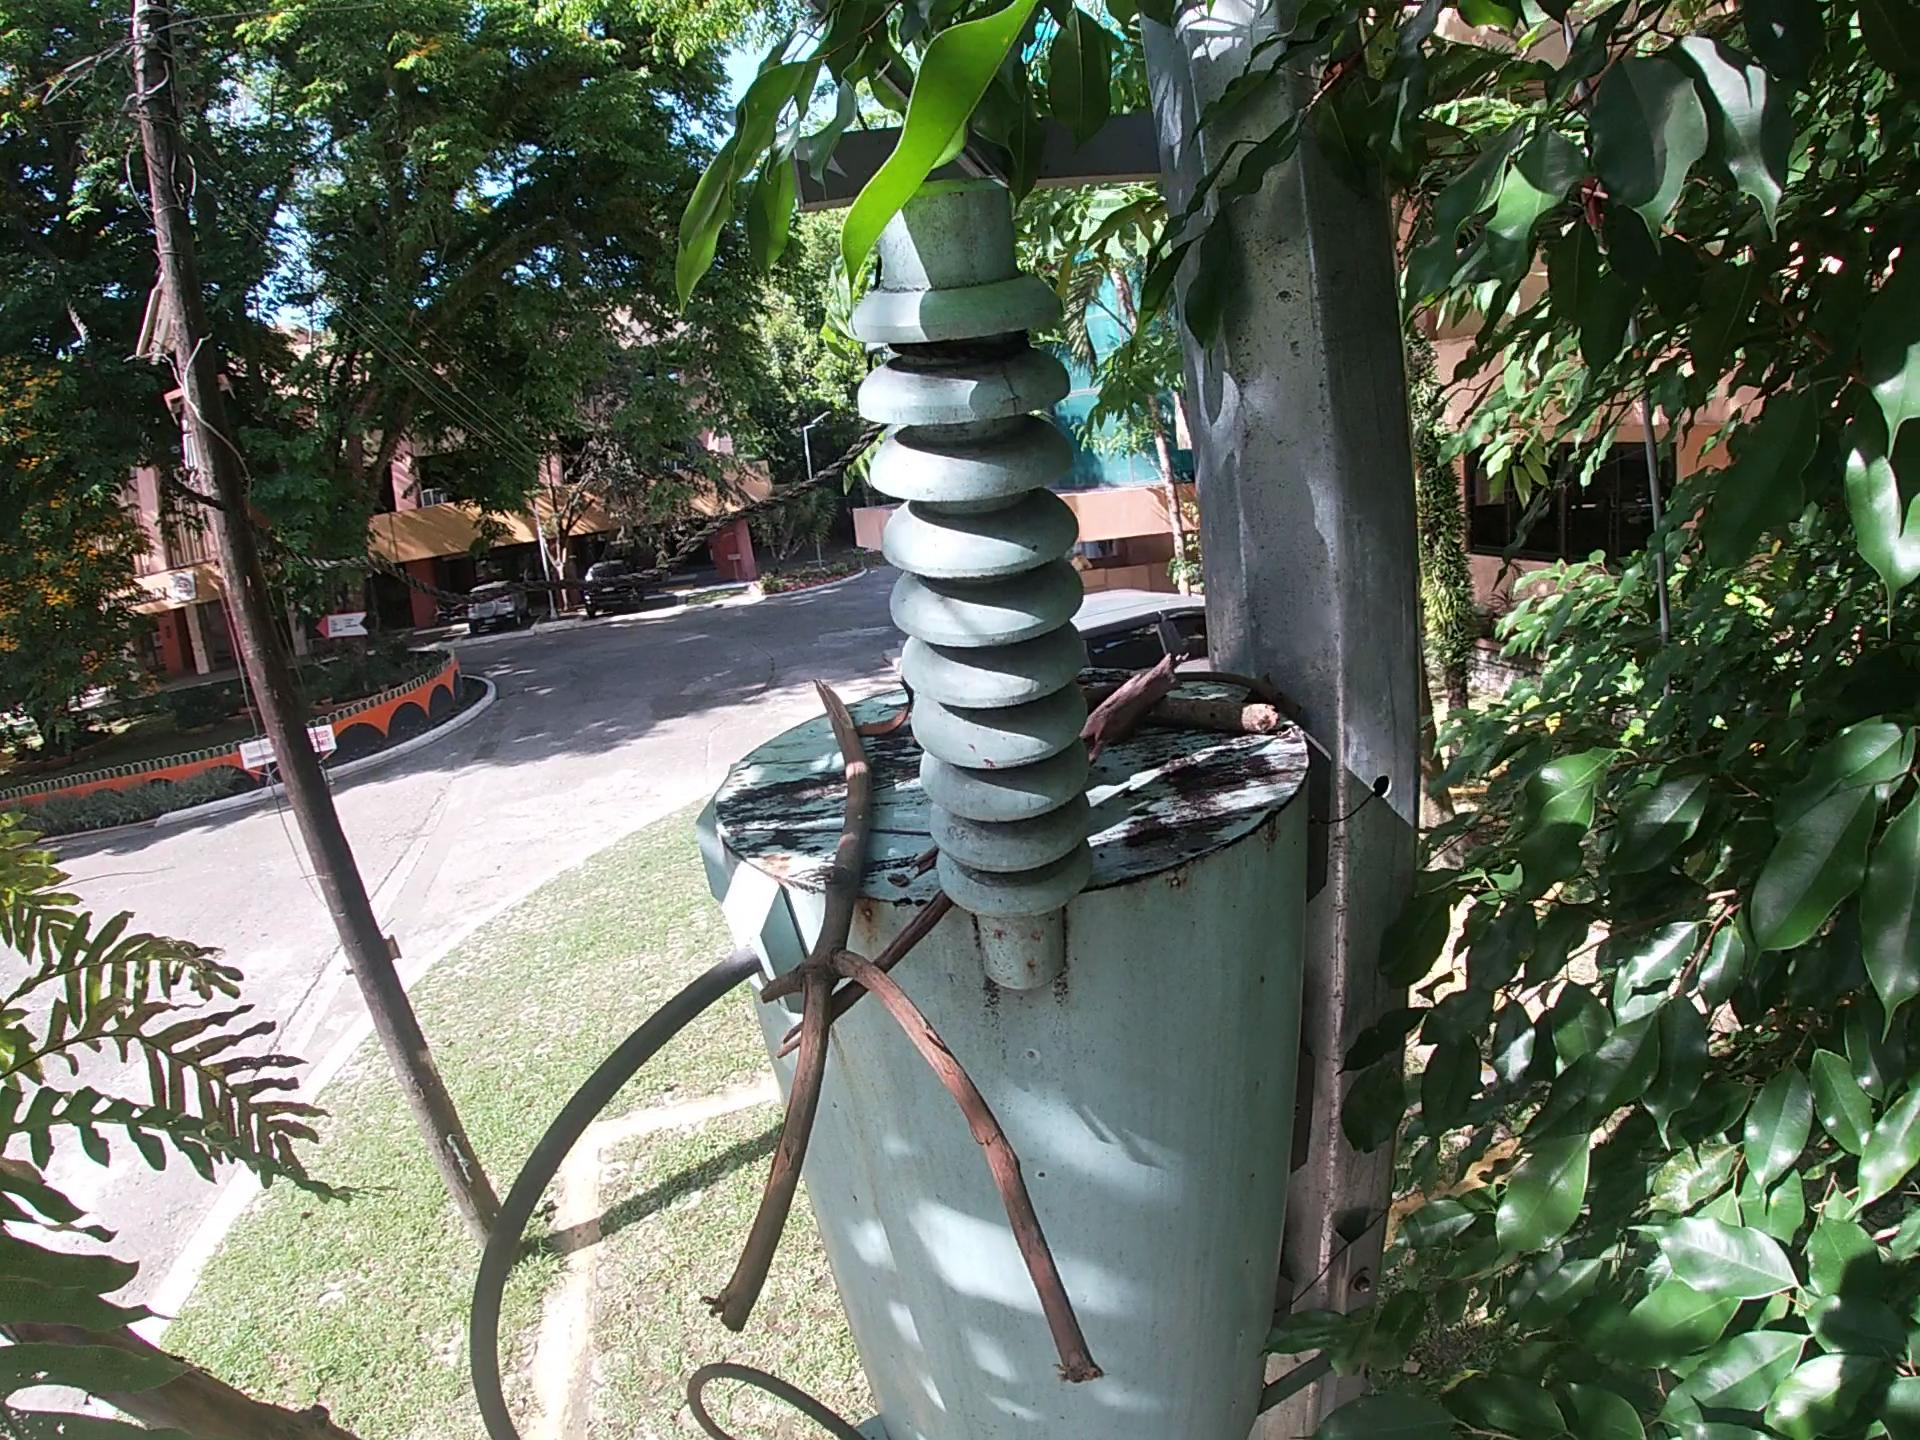mahogany fruit: (853, 676, 918, 744)
tree branch: (689, 672, 1119, 1396), (770, 883, 960, 1066), (1073, 650, 1191, 765), (1081, 688, 1287, 737), (1178, 664, 1312, 718)
